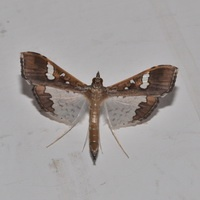insect: (20, 51, 177, 164)
